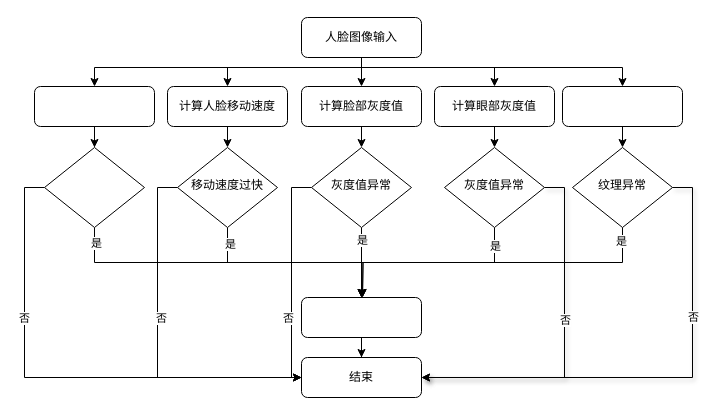
The diagram is 724 pixels wide and 415 high, and some of its shapes have lost their labels. The centre of each missing label's shape, as x and y in pixels:
"人脸非中央" belongs at point 94,187.
"图像质量不高" belongs at point 361,317.
"计算人脸位置" belongs at point 94,106.
"计算嘴部纹理" belongs at point 622,106.
